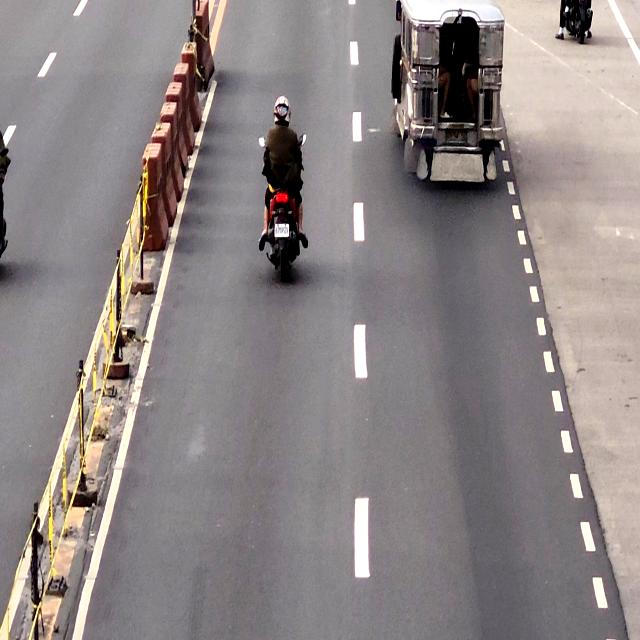Jeep: (394, 0, 505, 178)
License-Plate: (273, 222, 291, 237)
Motorcycle: (262, 93, 306, 287)
